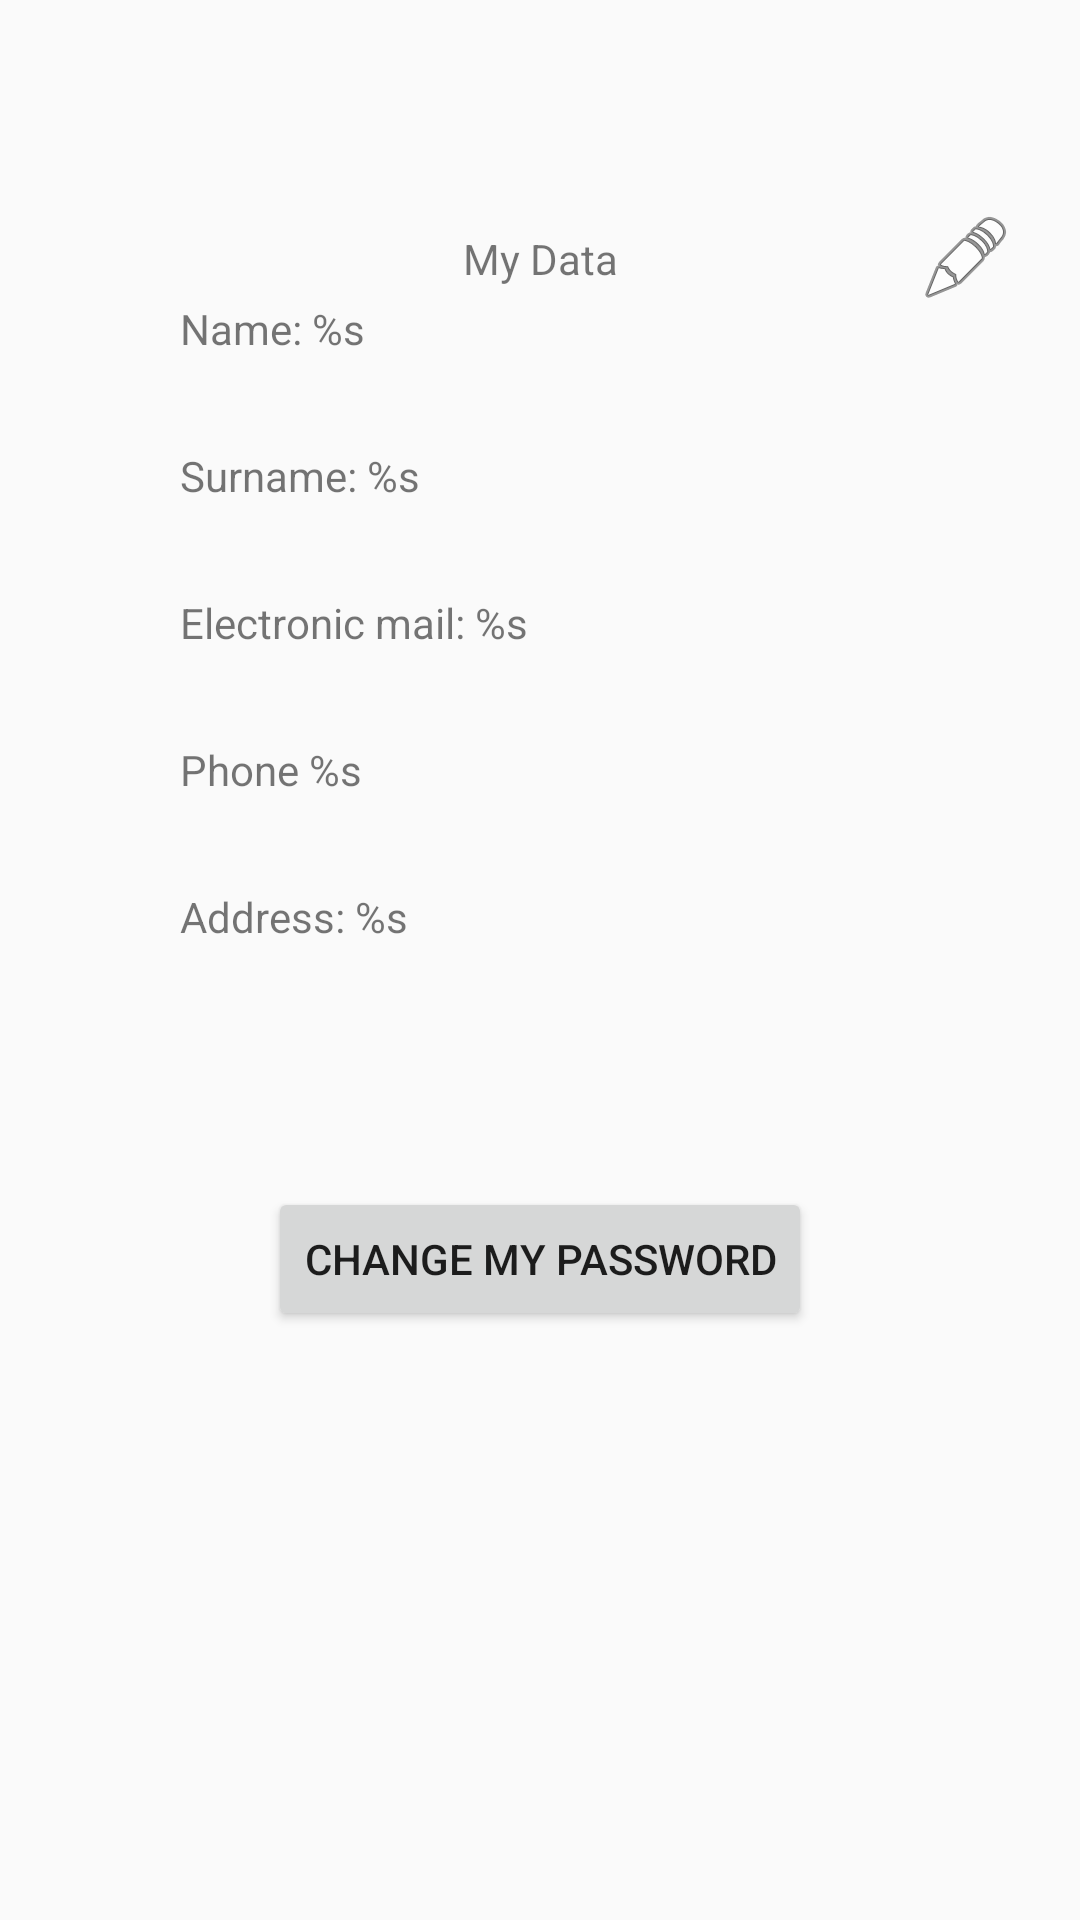

Named icons in this screenshot (1080*1920) and their bounding boxes, (x1=x1, y1=y1, x2=x2, y2=y2):
edit: (x1=925, y1=217, x2=1006, y2=298)
